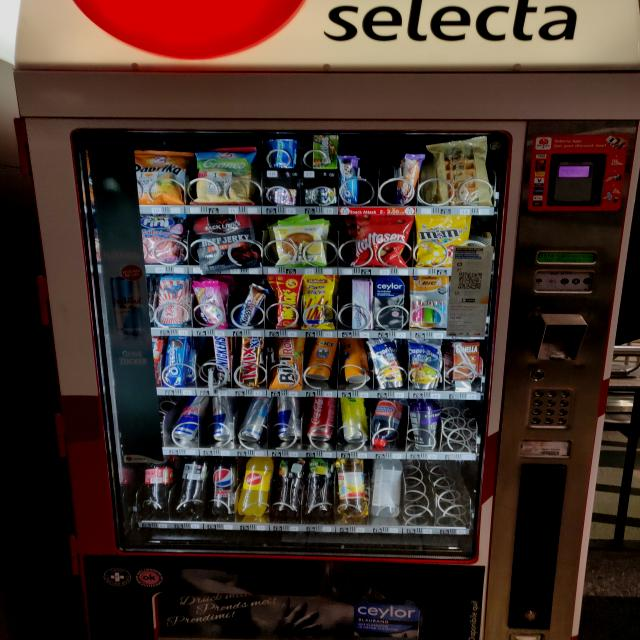airwaves_menthoneucalyptus_riegel_14_1_50173167: (266, 135, 301, 168)
bifi_roll__50__4251097402635: (268, 336, 306, 392)
c-swiss_dosenabisicetea__33__9120025930135: (339, 340, 376, 386), (303, 335, 340, 380)
caferoyal_classicmacchiato__33__7617014164487: (408, 398, 446, 449)
caprisun_multivitamin__20__4000177605004: (403, 339, 442, 389), (370, 339, 406, 389)
coke__dose_33__54491472: (306, 396, 339, 442)
coke__flasche_50__54491472: (137, 455, 175, 517)
coke_zero_flasche_50__5449000131836: (175, 454, 212, 518)
comella_schokodrink__33__7613100037253: (448, 340, 483, 381)
fini_galaxymix_packung_100_1_8410525150364: (138, 212, 189, 264)
fini_jellykisses_packung_80_1_8410525116704: (196, 279, 227, 327)
fuse_lemon__50__5449000235947: (303, 457, 339, 518)
fuse_lemon_dose_33__5449000235947: (340, 400, 368, 442)
fuse_peach__50__5449000236623: (270, 455, 306, 518)
henniez_rot__33__7610235000442: (368, 399, 404, 450)
jacklinks_beefjerkyorginal__25__4047751730219: (196, 216, 258, 269)
jlbrichard_gauffre__90__5410495002000: (432, 137, 498, 205)
kagi_specialedition__50__7610046000259: (155, 276, 185, 327)
knoppers_riegel____4035800488808: (233, 282, 270, 328)
lorenz_nicnacs__40__4018077798818: (271, 272, 302, 331)
malburner_partysticks__40__7610200279682: (302, 274, 337, 328)
maltesers___100__5000159023061: (351, 212, 416, 268)
mnms_gelb__45__40111445: (413, 215, 473, 268)
oreo___66__84100733: (163, 335, 193, 386)
pepsi_max__50__4060800105943: (206, 455, 240, 517)
ramseier_schorle__50__7610057012456: (334, 459, 371, 519)
redbull___33__90162909: (173, 395, 208, 442), (271, 393, 303, 442), (205, 397, 235, 445)
redbull_light__33__90162800: (232, 395, 270, 441)
sinalco_orange__50__4018715000112: (236, 456, 272, 520)
skittles_sour_riegel_51_1_0000000000004: (309, 135, 343, 169)
snickers___50__5000159461122: (208, 334, 232, 385)
stimorol_spearmint_riegel_14_1_0000000000005: (302, 187, 341, 206)
stimorol_wildcherry_riegel_14_1_57060330: (262, 187, 298, 203)
twix___50__5000159459228: (239, 334, 265, 389)
vitaminwell_reload__50__7350042716388: (368, 457, 404, 519)
zweifel_graneochilli__100__7610095184009: (191, 144, 259, 205)
zweifel_paprika__90__7610095013002: (130, 147, 190, 206)
